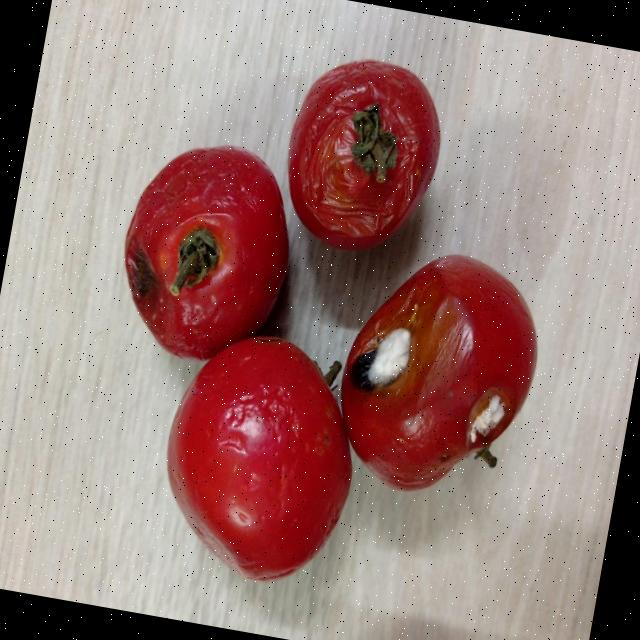Rotten: (325, 236, 553, 514), (104, 130, 306, 376), (273, 48, 452, 263)
